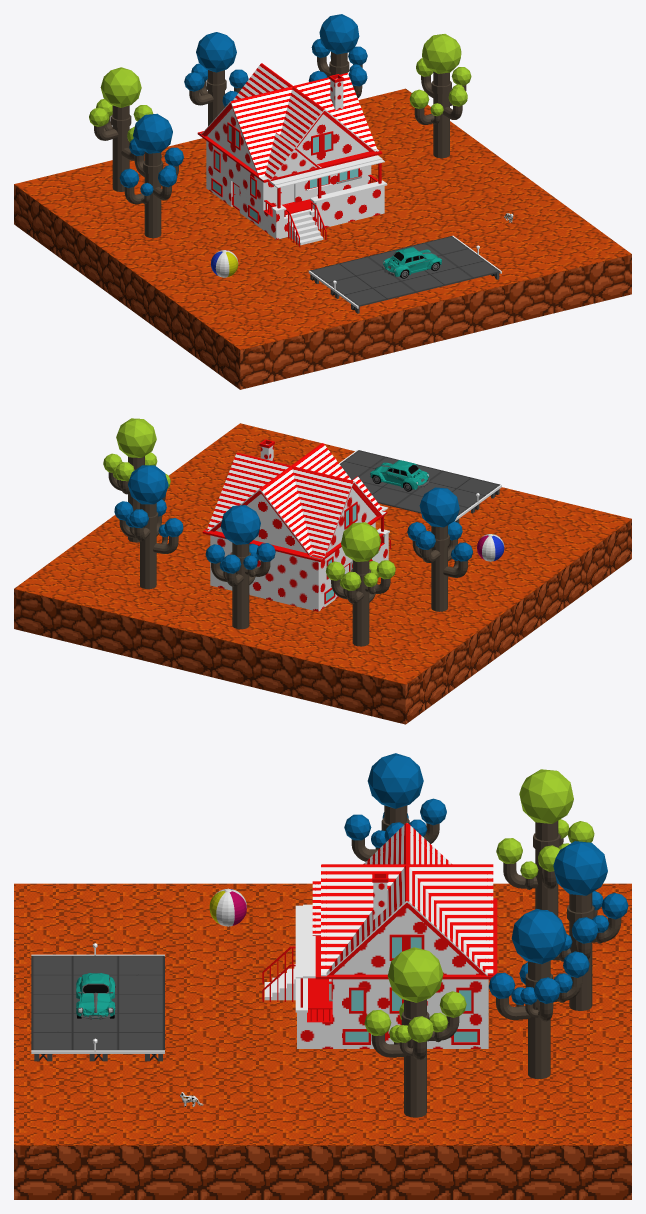
The picture shows the model from 3 angles, top to bottom: view 1: azimuth 30°, elevation 25°; view 2: azimuth 150°, elevation 25°; view 3: azimuth 270°, elevation 25°; orthographic projection. The views are drawn at different scales.
Parts seen in each view (by area): view 1: Cube.001, Cube.196, VEHICLES_VOLKSWAGEN, OBJRANDOM_BEACHBALL; view 2: Cube.001, Cube.196, VEHICLES_VOLKSWAGEN, OBJRANDOM_BEACHBALL; view 3: Cube.001, Cube.196, VEHICLES_VOLKSWAGEN, OBJRANDOM_BEACHBALL.
Boxes of the visible parts, <box> form: Cube.001: <box>14,14,631,389</box>; Cube.196: <box>197,63,387,246</box>; VEHICLES_VOLKSWAGEN: <box>382,247,442,278</box>; OBJRANDOM_BEACHBALL: <box>211,250,238,277</box>; Cube.001: <box>14,418,631,724</box>; Cube.196: <box>202,439,390,611</box>; VEHICLES_VOLKSWAGEN: <box>370,460,429,491</box>; OBJRANDOM_BEACHBALL: <box>477,534,504,561</box>; Cube.001: <box>14,753,631,1199</box>; Cube.196: <box>262,823,497,1048</box>; VEHICLES_VOLKSWAGEN: <box>76,973,115,1019</box>; OBJRANDOM_BEACHBALL: <box>209,888,246,926</box>.
Bounding box in the file's own units: 4000 × 1687 × 4000.
32 materials, 6 textured.
